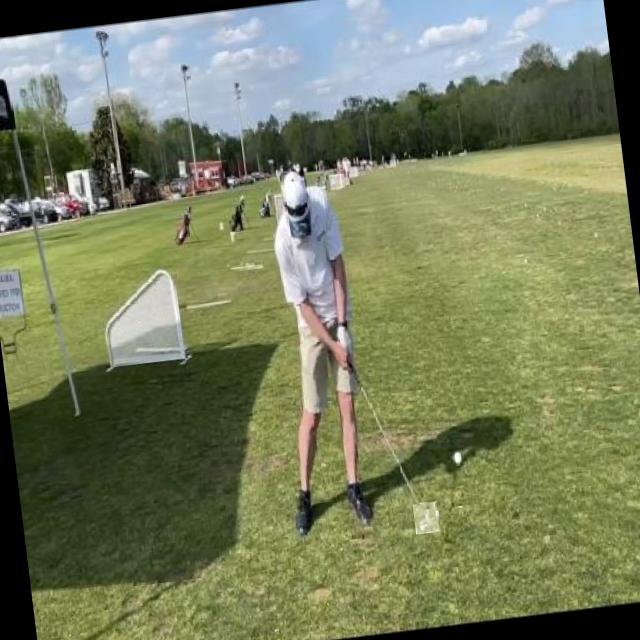club head: (413, 501, 440, 534)
